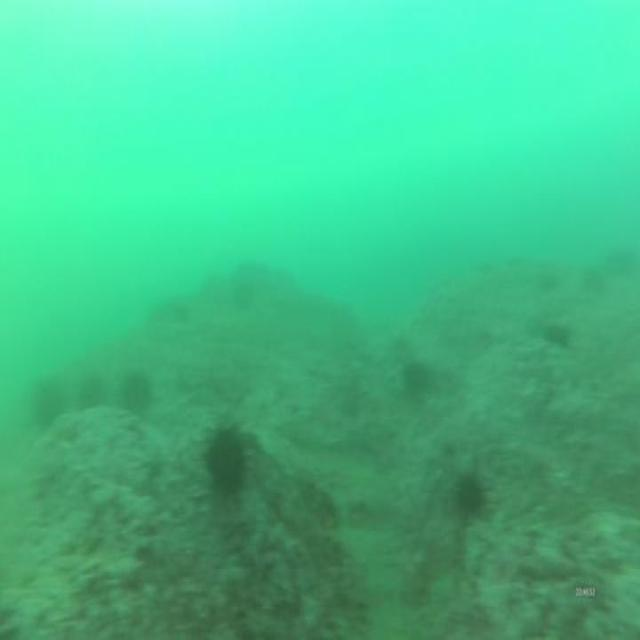echinus: (199, 416, 248, 502), (449, 464, 490, 522), (27, 379, 66, 433), (116, 366, 156, 418), (399, 358, 431, 408), (76, 373, 108, 414), (541, 319, 575, 357), (578, 260, 610, 296), (229, 274, 257, 314), (606, 243, 636, 278)
